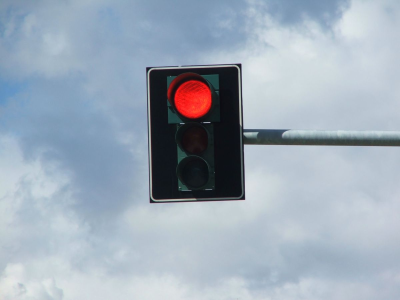trafficlight_red: (166, 76, 220, 190)
